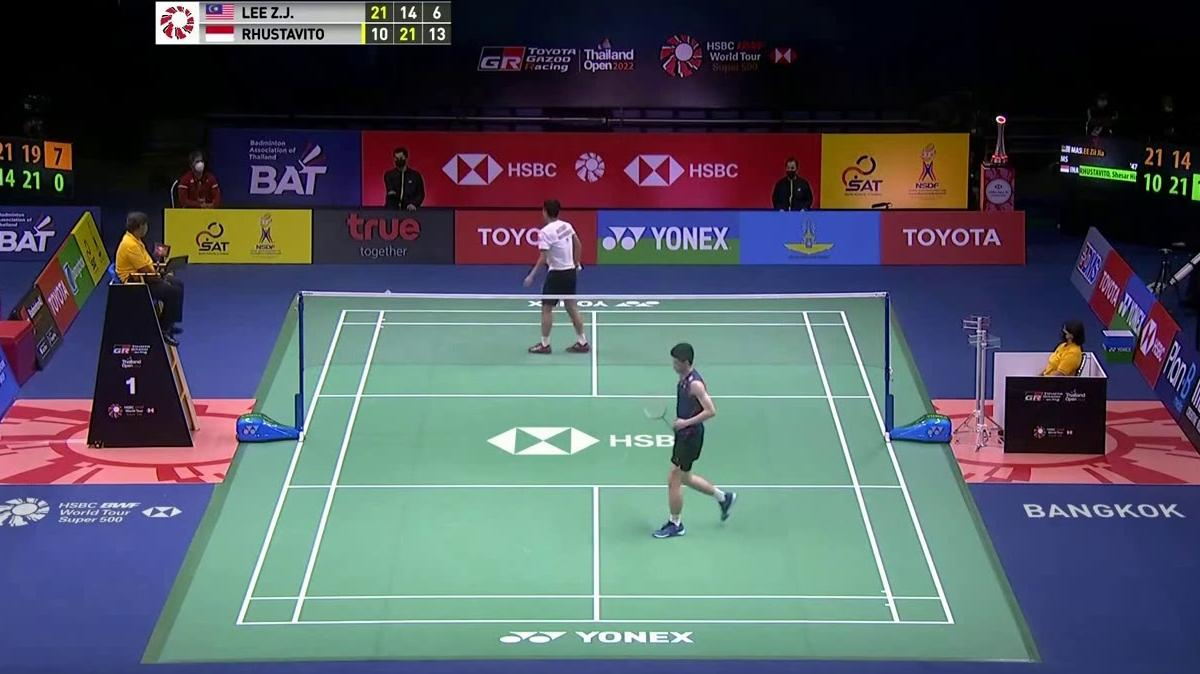racket: (642, 398, 679, 433), (538, 264, 583, 287)
shuttle: (385, 289, 392, 297)
